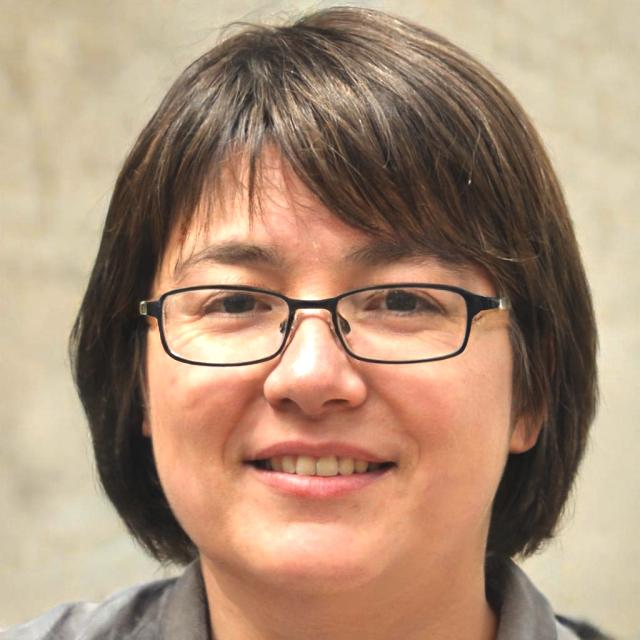lens: (336, 288, 468, 362), (164, 289, 289, 366)
